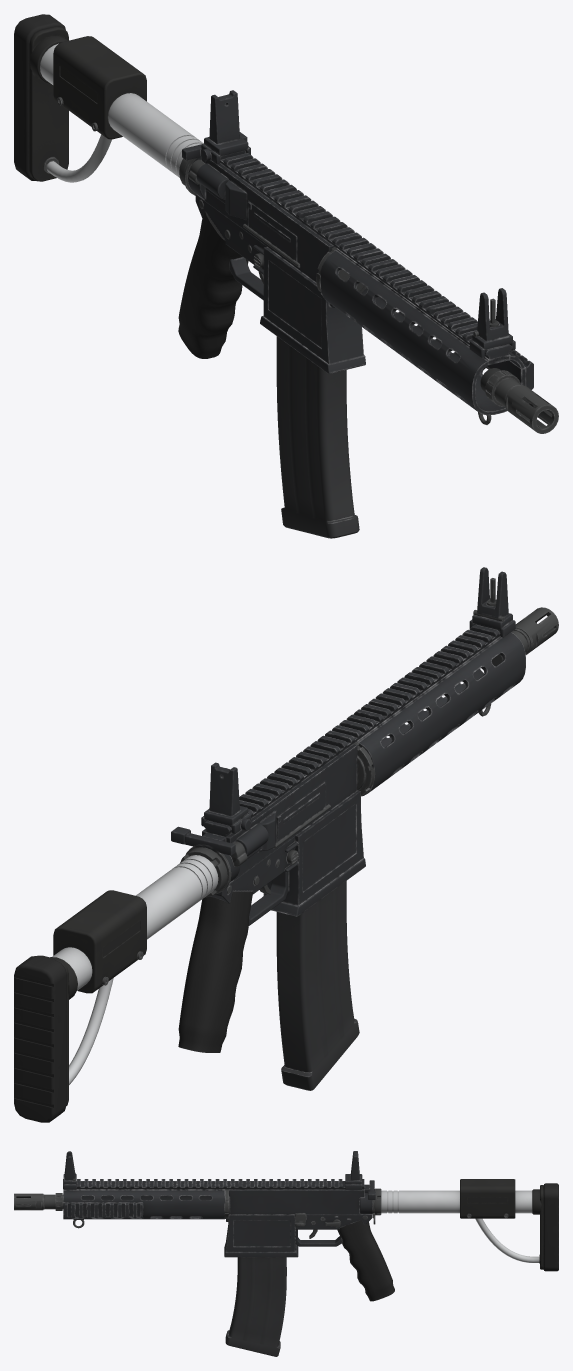
File: carbine_rifle_export_m.glb
3 views of the same model, one above another, from view 1: azimuth 30°, elevation 25°; view 2: azimuth 150°, elevation 25°; view 3: azimuth 270°, elevation 25° (orthographic). The views are drawn at different scales.
Parts seen in each view (by area): view 1: Body, Magazine; view 2: Body, Magazine; view 3: Body, Magazine.
Part boxes in pixels (x1,y1,x2,y2): Body: (14,14,558,433); Magazine: (276,336,359,538); Body: (14,567,558,1122); Magazine: (276,881,359,1090); Body: (14,1151,558,1301); Magazine: (225,1257,286,1356).
Size of the model in its own units: 0.0512 by 0.2862 by 0.7075.
2 materials, 2 textured.
